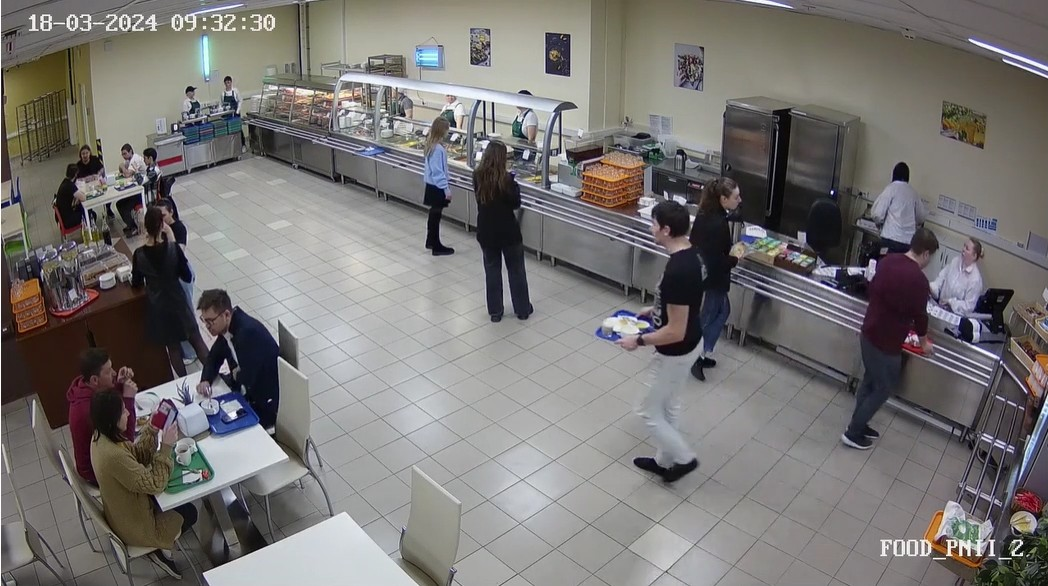Na_Kasse: (782, 218, 956, 454), (704, 169, 745, 342)
Ne_v_Ocheredi: (611, 200, 708, 491), (121, 208, 229, 373)
Personal: (871, 153, 917, 242), (945, 238, 992, 306), (508, 91, 546, 145), (171, 82, 206, 133), (217, 71, 243, 125)
Vybiraet: (470, 131, 536, 325), (420, 109, 459, 259)
Za_Stolom: (90, 384, 190, 540), (194, 286, 292, 428), (54, 350, 120, 493), (52, 160, 86, 233), (71, 137, 110, 187), (115, 136, 145, 188), (136, 145, 162, 195)
